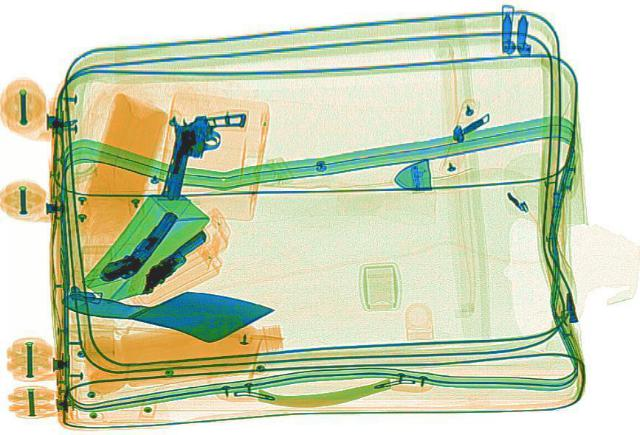Gun: (88, 206, 194, 285), (116, 225, 230, 297), (157, 108, 246, 199)
Knife: (54, 274, 280, 348)
